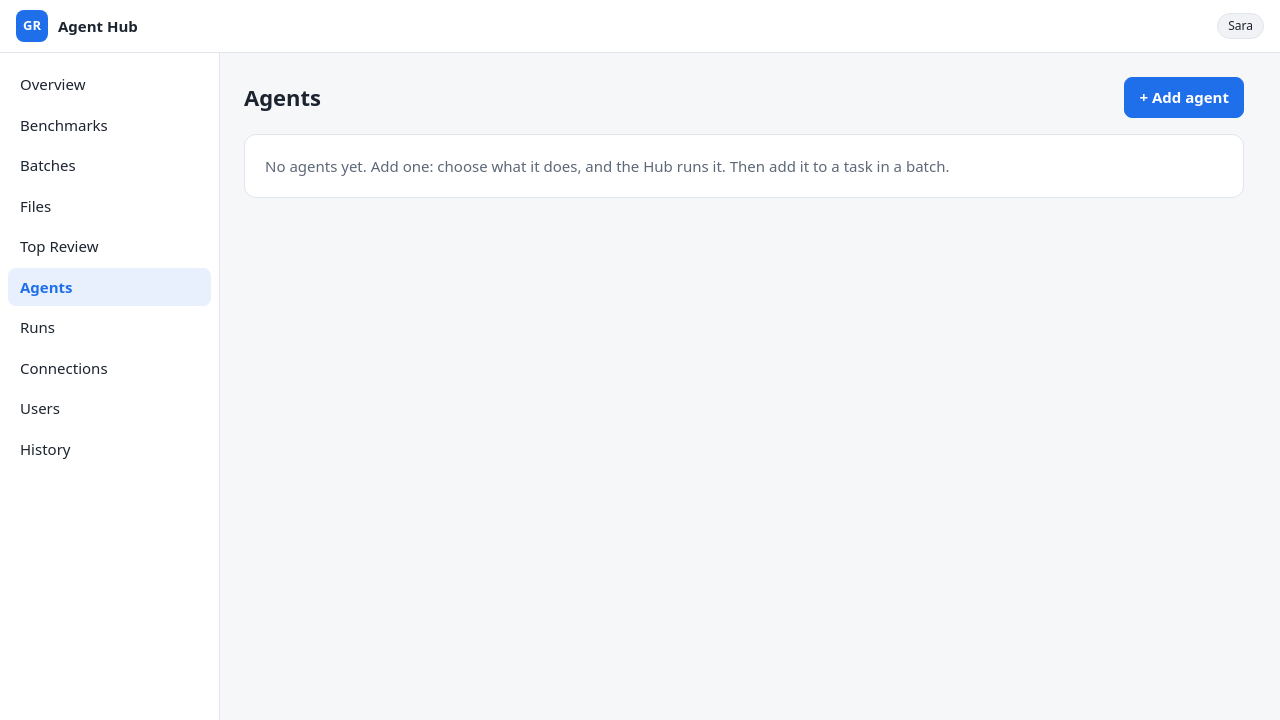
Test: the Owner adds a built-in agent: its kind and job, no token (step 25)
This screenshot has width=1280, height=720.
Click the button "+ Add agent" at (1184, 97), box [1124, 77, 1244, 118]
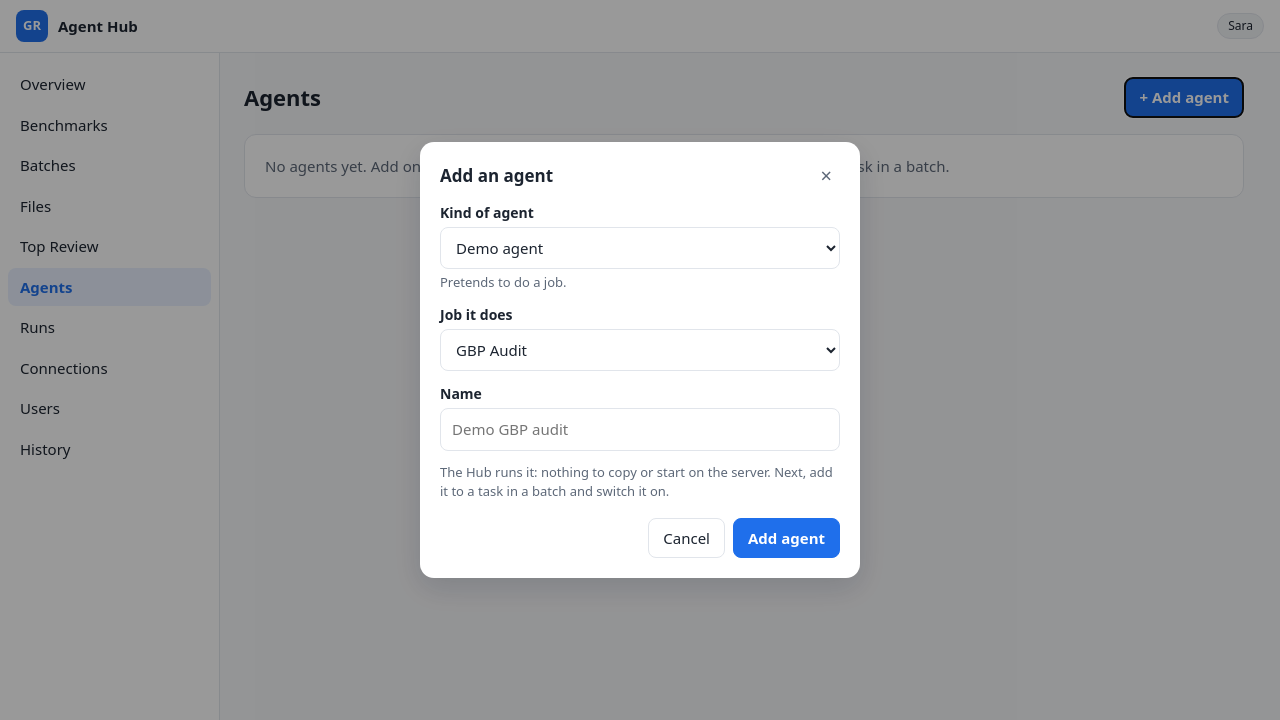
expect the text "Pretends to do a job." is shown: met, box [440, 273, 566, 291]
Select "Website Audit" in the dropdown labelled "Job it does" at (640, 350), box [440, 329, 840, 371]
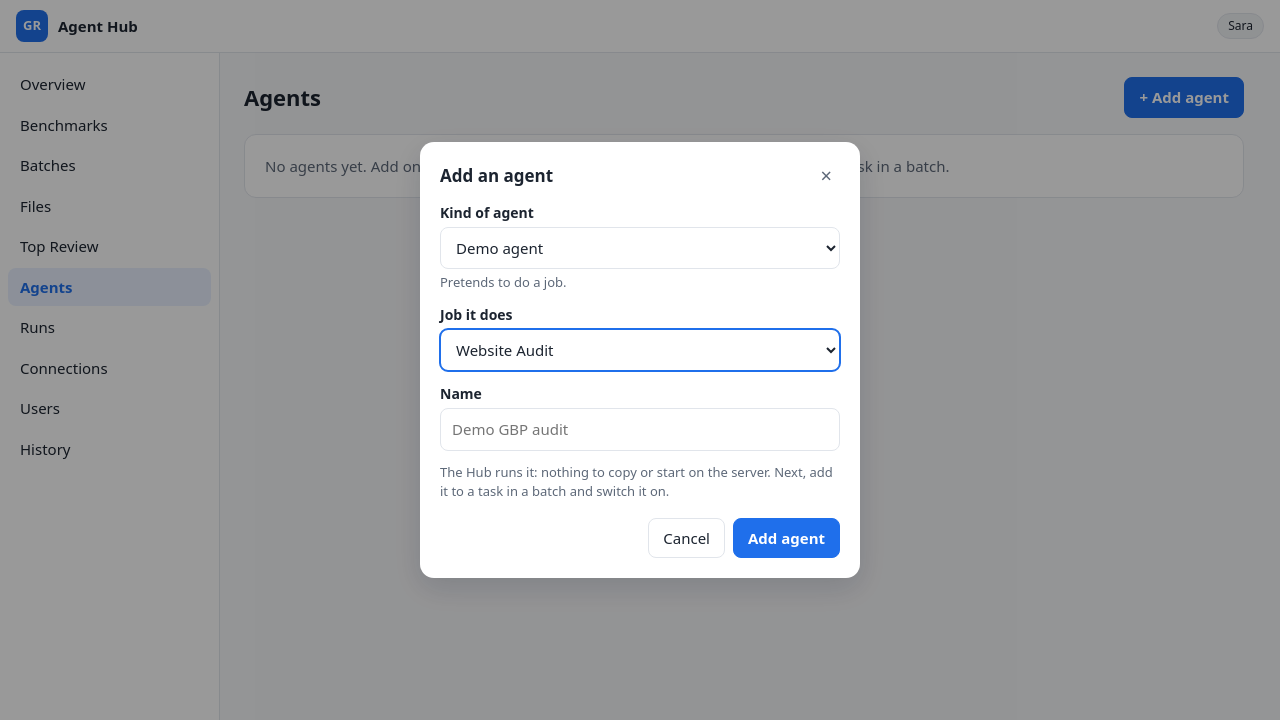
Type "Demo website" into the field labelled "Name" at (640, 430), box [440, 408, 840, 451]
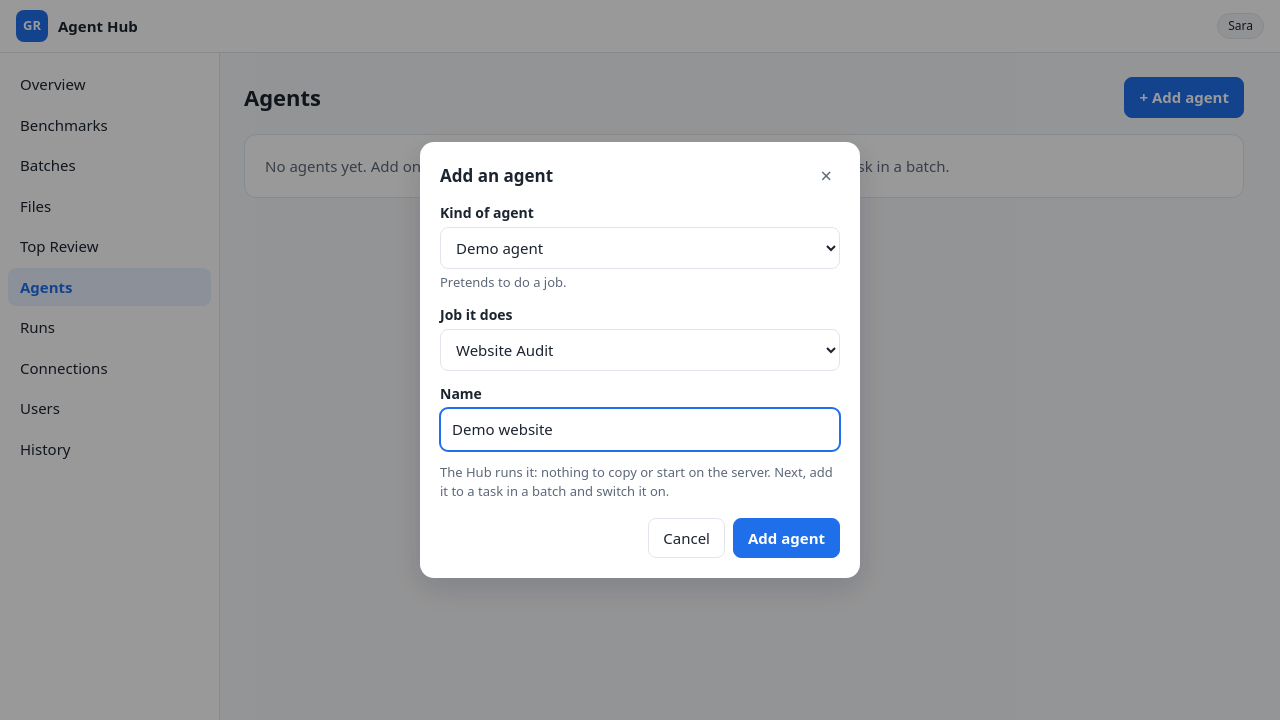
Click the button "Add agent" at (786, 538), box [733, 518, 840, 558]
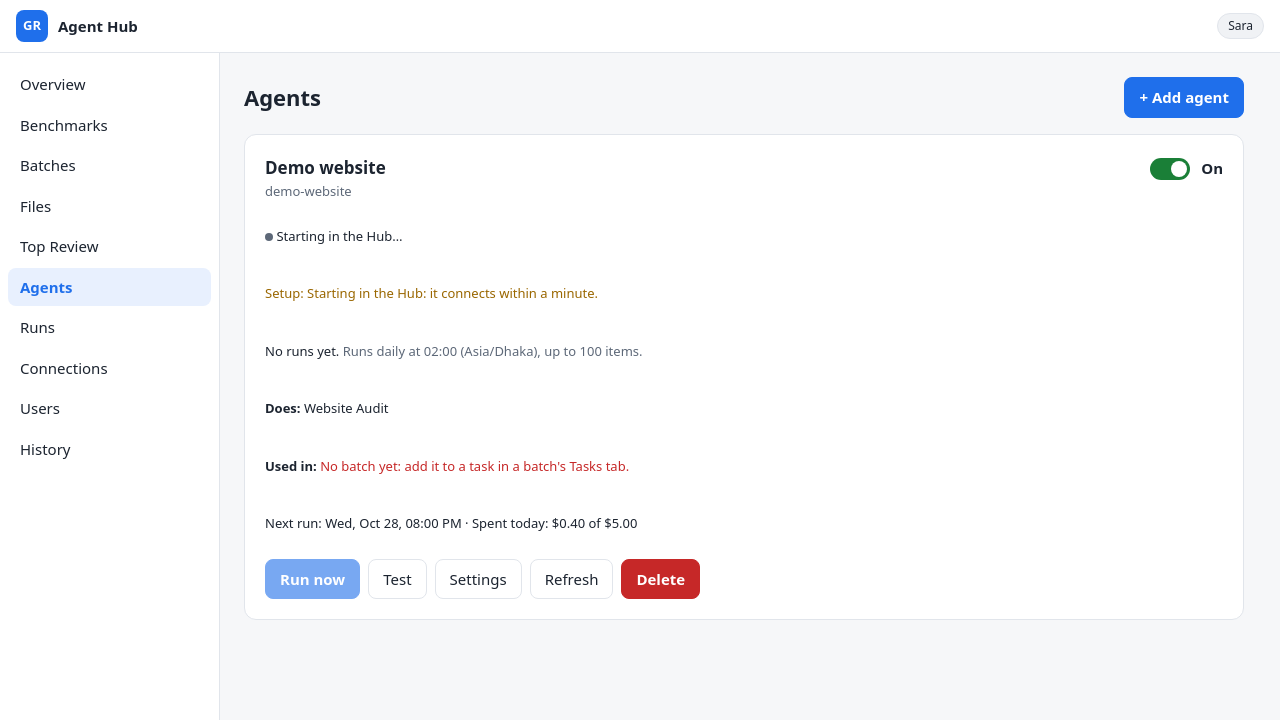
expect the dialog is gone: met
expect the text "Starting in the Hub…" is shown: met, box [265, 226, 402, 244]
